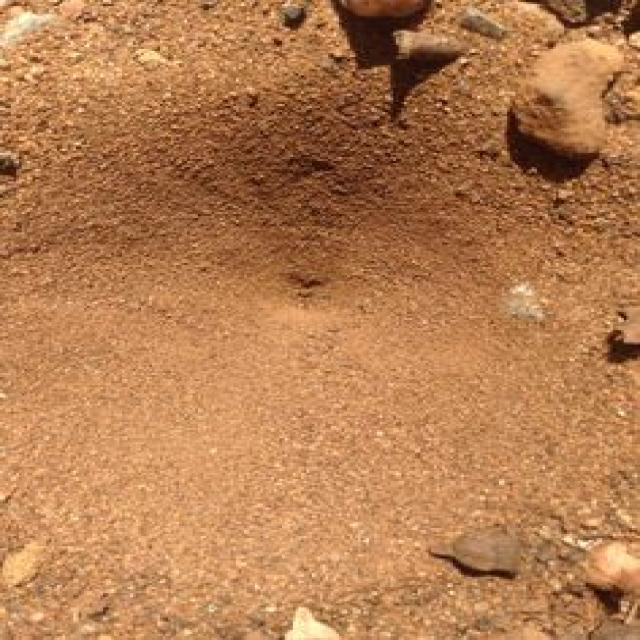stone: (510, 39, 623, 153)
white-sand: (0, 0, 639, 639)
